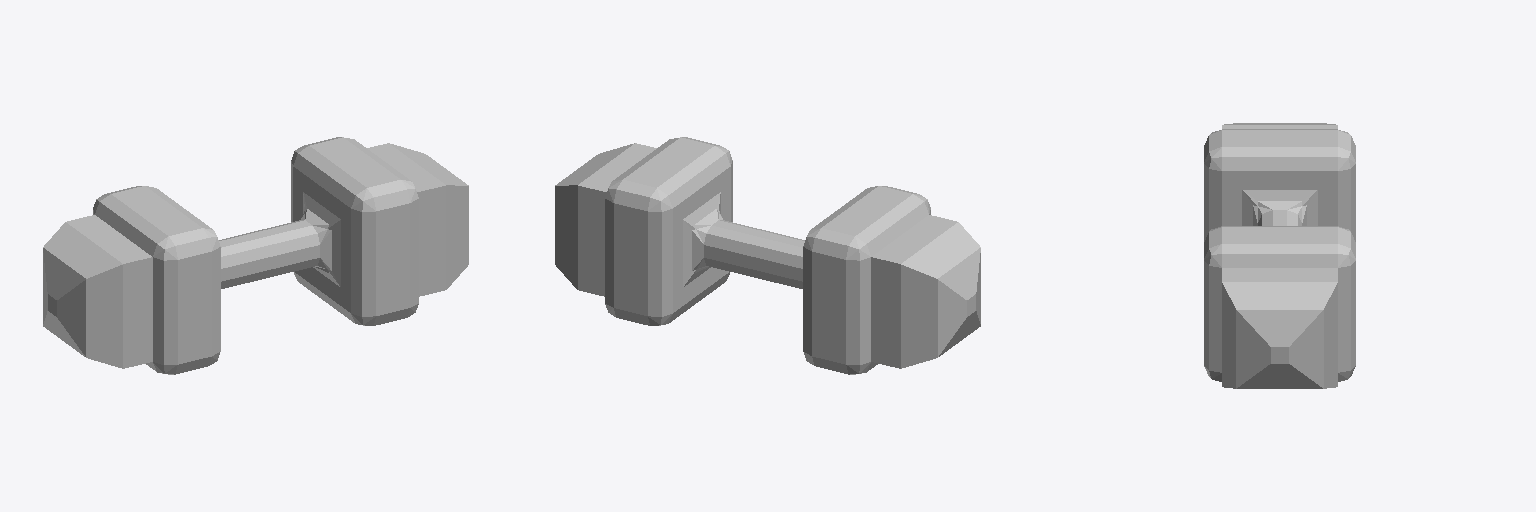
The model's file is RobotBody.obj.
The picture shows the model from 3 angles: view 1: azimuth 30°, elevation 25°; view 2: azimuth 150°, elevation 25°; view 3: azimuth 270°, elevation 25°; orthographic projection.
Parts seen in each view (by area): view 1: Cube; view 2: Cube; view 3: Cube.
Part boxes in pixels (x1,y1,x2,y2): Cube: (43, 137, 468, 374); Cube: (555, 137, 980, 374); Cube: (1204, 123, 1355, 388).
Size of the model in its own units: 6.16 by 2 by 2.